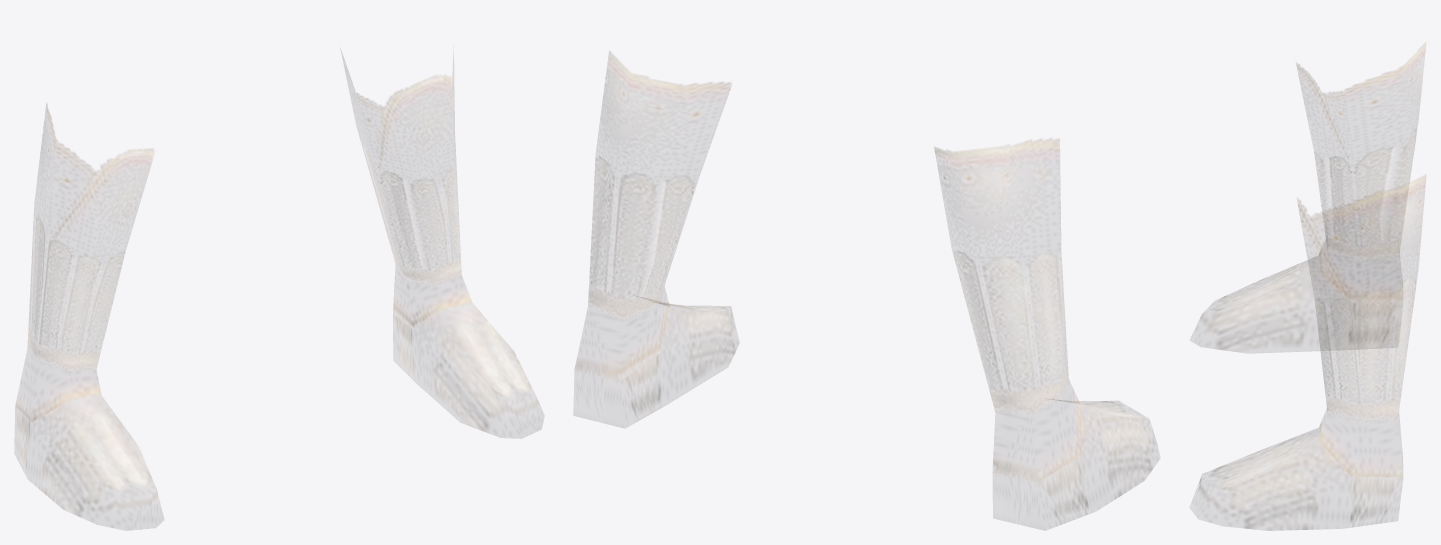
The model's file is light_03_fa.glb.
3 renders of one model, left to right at view 1: azimuth 30°, elevation 25°; view 2: azimuth 150°, elevation 25°; view 3: azimuth 270°, elevation 25°, orthographic. The views are drawn at different scales.
Parts seen in each view (by area): view 1: light_03_fa; view 2: light_03_fa; view 3: light_03_fa.
Boxes of the visible parts, left/top/right/bottom form: light_03_fa: left=15, top=51, right=542, bottom=529; light_03_fa: left=574, top=51, right=1158, bottom=530; light_03_fa: left=1191, top=43, right=1425, bottom=530.
Bounding box in the file's own units: 0.6419 × 0.4498 × 0.3013.
1 material, 1 textured.
